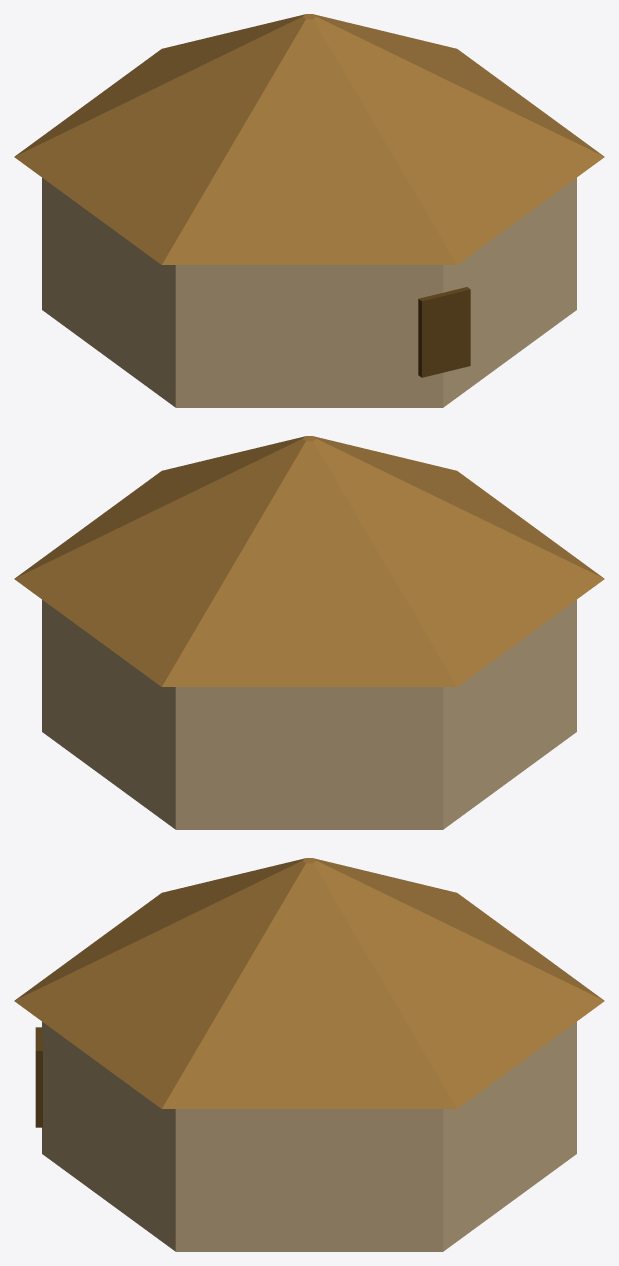
The model's file is troll_hut.dae.
3 renders of one model, top to bottom at view 1: azimuth 30°, elevation 25°; view 2: azimuth 150°, elevation 25°; view 3: azimuth 270°, elevation 25°, orthographic.
Visible parts, largest first — view 1: Cone, Cylinder, Cube; view 2: Cone, Cylinder; view 3: Cone, Cylinder, Cube.
Boxes of the visible parts, x1,y1,x2,y2 form: Cone: (14, 14, 604, 264); Cylinder: (42, 178, 576, 407); Cube: (418, 287, 470, 377); Cone: (14, 436, 604, 686); Cylinder: (42, 600, 576, 829); Cone: (14, 858, 604, 1108); Cylinder: (42, 1022, 576, 1251); Cube: (35, 1027, 42, 1127).
Size of the model in its own units: 364 by 420 by 230.
